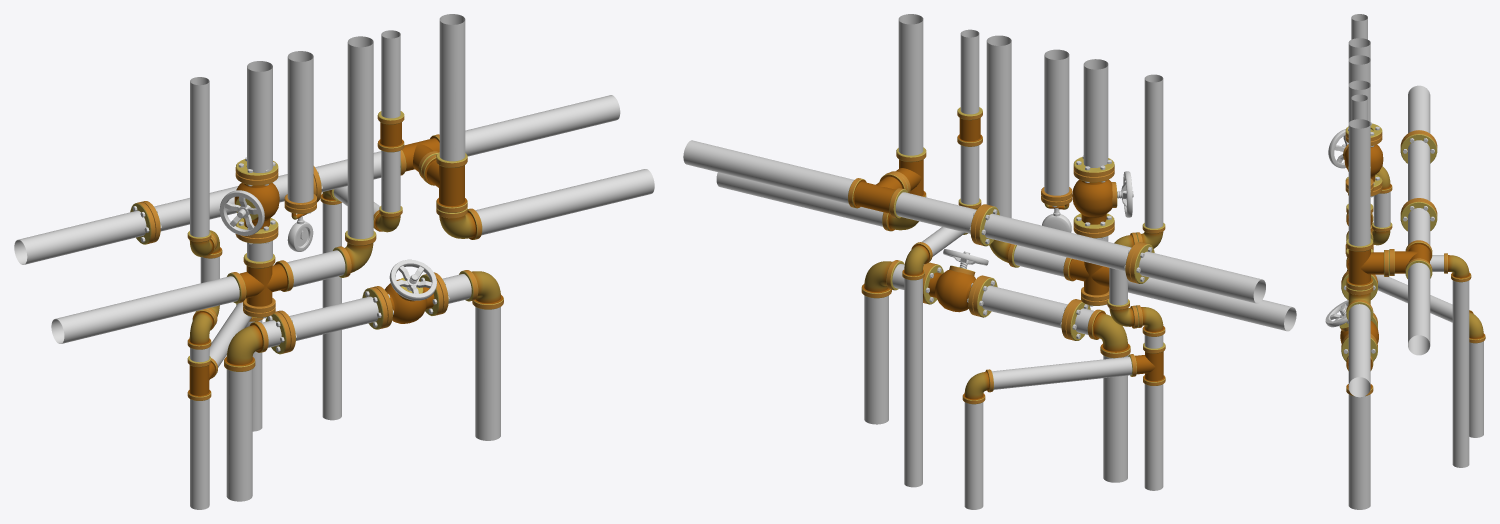
The model's file is test parts.fbx.
The picture shows the model from 3 angles, left to right: view 1: azimuth 30°, elevation 25°; view 2: azimuth 150°, elevation 25°; view 3: azimuth 270°, elevation 25°; orthographic projection. The views are drawn at different scales.
Visible parts, largest first — view 1: pipe_connect_T_yellow.037, pipe_connect_T_yellow.044, pipe_connect_T_yellow.062, pipe_connect_T_yellow.064, pipe_connect_T_yellow.026, pipe_connect_T_yellow.061, pipe_connect_T_yellow.030, pipe_connect_T_yellow.039, pipe_connect_T_yellow.033, pipe_connect_T_yellow.069, pipe_connect_T_yellow.032, pipe_connect_T_yellow.072 (+23 smaller); view 2: pipe_connect_T_yellow.037, pipe_connect_T_yellow.064, pipe_connect_T_yellow.072, pipe_connect_T_yellow.026, pipe_connect_T_yellow.067, pipe_connect_T_yellow.061, pipe_connect_T_yellow.044, pipe_connect_T_yellow.039, pipe_connect_T_yellow.069, pipe_connect_T_yellow.032, pipe_connect_T_yellow.030, pipe_connect_T_yellow.054 (+24 smaller); view 3: pipe_connect_T_yellow.072, pipe_connect_T_yellow.061, pipe_connect_T_yellow.032, pipe_connect_T_yellow.062, pipe_connect_T_yellow.064, pipe_connect_T_yellow.059, pipe_connect_T_yellow.058, pipe_connect_T_yellow.039, pipe_connect_T_yellow.067, pipe_connect_T_yellow.063, pipe_connect_T_yellow.030, pipe_connect_T_yellow.069 (+17 smaller).
Boxes of the visible parts, bbox=[...] form: pipe_connect_T_yellow.037: bbox=[347, 36, 373, 238]; pipe_connect_T_yellow.044: bbox=[51, 276, 239, 343]; pipe_connect_T_yellow.062: bbox=[475, 169, 654, 235]; pipe_connect_T_yellow.064: bbox=[465, 95, 620, 156]; pipe_connect_T_yellow.026: bbox=[287, 51, 313, 202]; pipe_connect_T_yellow.061: bbox=[439, 14, 465, 161]; pipe_connect_T_yellow.030: bbox=[362, 259, 449, 329]; pipe_connect_T_yellow.039: bbox=[219, 157, 279, 244]; pipe_connect_T_yellow.033: bbox=[226, 369, 252, 501]; pipe_connect_T_yellow.069: bbox=[14, 210, 146, 264]; pipe_connect_T_yellow.032: bbox=[475, 307, 500, 440]; pipe_connect_T_yellow.072: bbox=[322, 203, 341, 420]; pipe_connect_T_yellow.037: bbox=[986, 35, 1011, 217]; pipe_connect_T_yellow.064: bbox=[683, 140, 853, 203]; pipe_connect_T_yellow.072: bbox=[904, 278, 922, 487]; pipe_connect_T_yellow.026: bbox=[1044, 49, 1069, 195]; pipe_connect_T_yellow.067: bbox=[984, 213, 1131, 271]; pipe_connect_T_yellow.061: bbox=[898, 14, 923, 155]; pipe_connect_T_yellow.044: bbox=[1128, 277, 1296, 331]; pipe_connect_T_yellow.039: bbox=[1072, 155, 1133, 238]; pipe_connect_T_yellow.069: bbox=[1139, 251, 1265, 303]; pipe_connect_T_yellow.032: bbox=[864, 295, 888, 424]; pipe_connect_T_yellow.030: bbox=[923, 249, 997, 317]; pipe_connect_T_yellow.054: bbox=[1144, 74, 1163, 228]; pipe_connect_T_yellow.072: bbox=[1452, 280, 1469, 467]; pipe_connect_T_yellow.061: bbox=[1348, 119, 1370, 246]; pipe_connect_T_yellow.032: bbox=[1348, 394, 1370, 509]; pipe_connect_T_yellow.062: bbox=[1348, 304, 1370, 397]; pipe_connect_T_yellow.064: bbox=[1408, 262, 1430, 355]; pipe_connect_T_yellow.059: bbox=[1346, 238, 1389, 290]; pipe_connect_T_yellow.058: bbox=[1469, 341, 1483, 437]; pipe_connect_T_yellow.039: bbox=[1328, 122, 1383, 197]; pipe_connect_T_yellow.067: bbox=[1408, 140, 1430, 200]; pipe_connect_T_yellow.063: bbox=[1389, 240, 1432, 278]; pipe_connect_T_yellow.030: bbox=[1325, 300, 1378, 361]; pipe_connect_T_yellow.069: bbox=[1408, 85, 1430, 133].
Size of the model in its own units: 4391 by 3005 by 1190.
